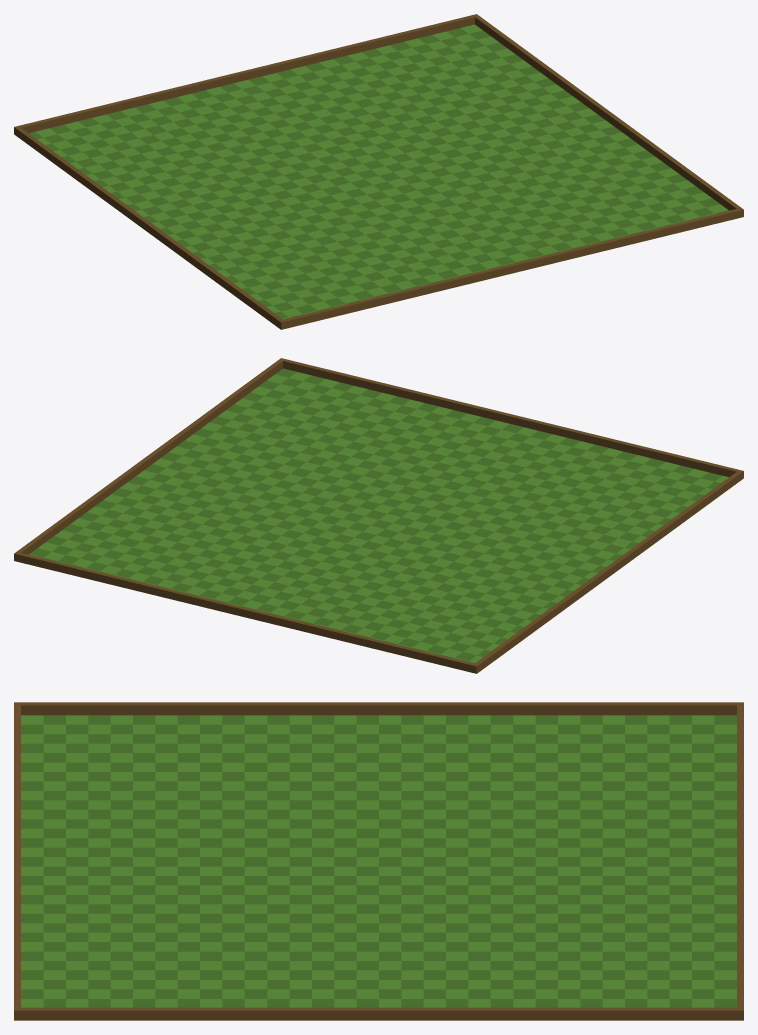
Rendered from yard16.fbx.
The picture shows the model from 3 angles, top to bottom: view 1: azimuth 30°, elevation 25°; view 2: azimuth 150°, elevation 25°; view 3: azimuth 270°, elevation 25°; orthographic projection. The views are drawn at different scales.
Visible parts, largest first — view 1: Plane; view 2: Plane; view 3: Plane.
Part boxes in pixels (x1,y1,x2,y2): Plane: (14, 14, 743, 329); Plane: (14, 358, 743, 673); Plane: (14, 702, 743, 1020).
Size of the model in its own units: 1632 by 25 by 1632.
